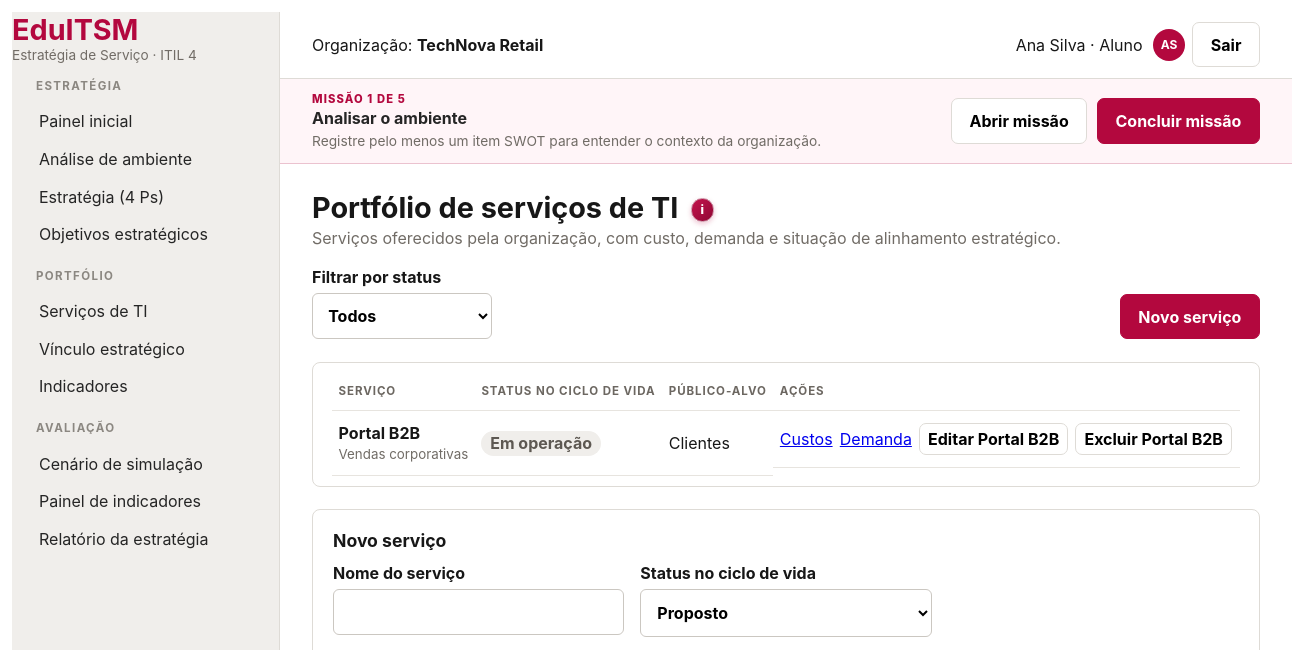
Test: T06 serviços e T07 cadastro › mantém o serviço e mostra a orientação da API quando a exclusão retorna 422
Click the button "Excluir Portal B2B".
click(1154, 439)  # box [1075,423,1232,455]
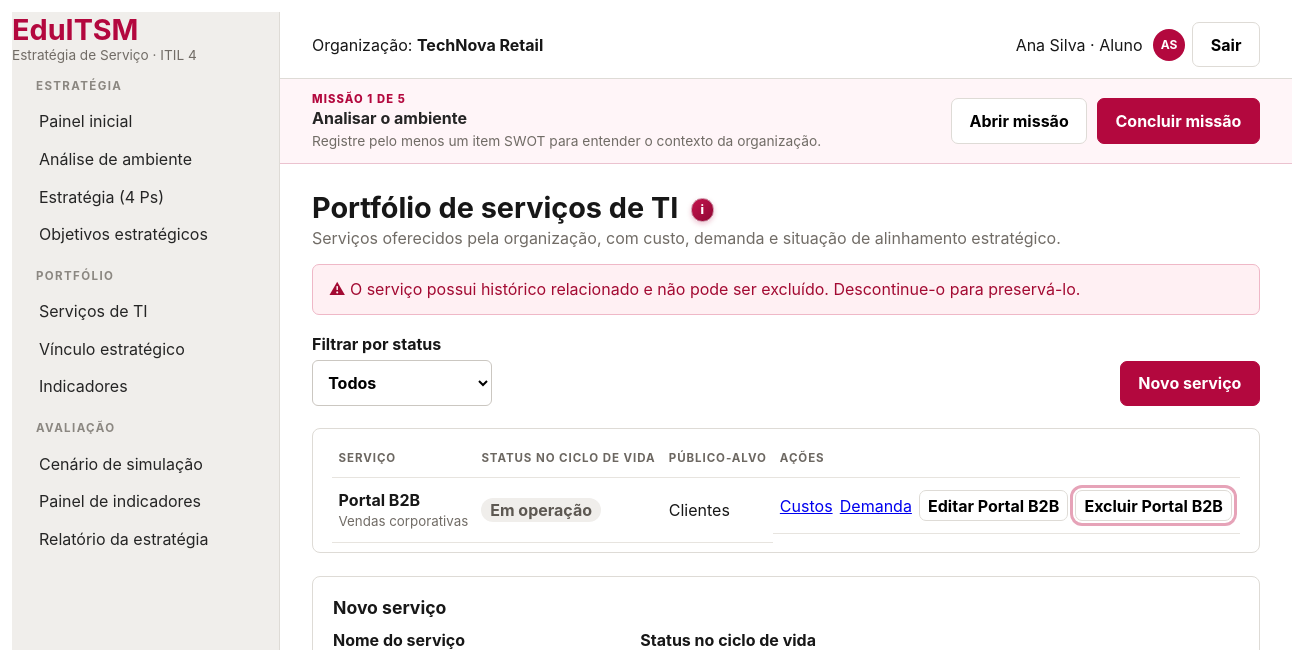
expect the text "Portal B2B" is shown: met, box [339,490,420,510]
expect the message shows "Descontinue-o para preservá-lo": met, box [350,279,1080,299]
